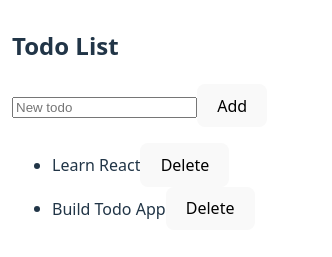
TodoList Component › adds a new todo
In the field with placeholder "New todo": [104, 107] box top-left (12, 97), bottom-right (197, 118), type "Test Todo"
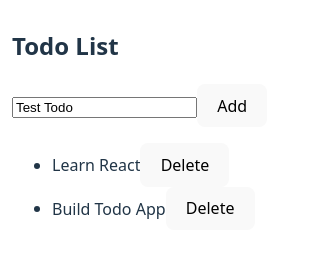
Click the button "Add": [232, 106] box top-left (197, 84), bottom-right (267, 127)
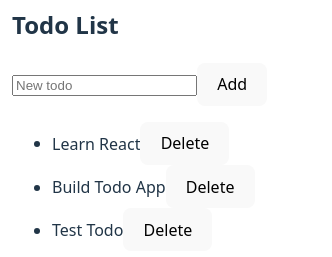
Now the list item "Test Todo" is shown, box top-left (52, 219), bottom-right (123, 241)
